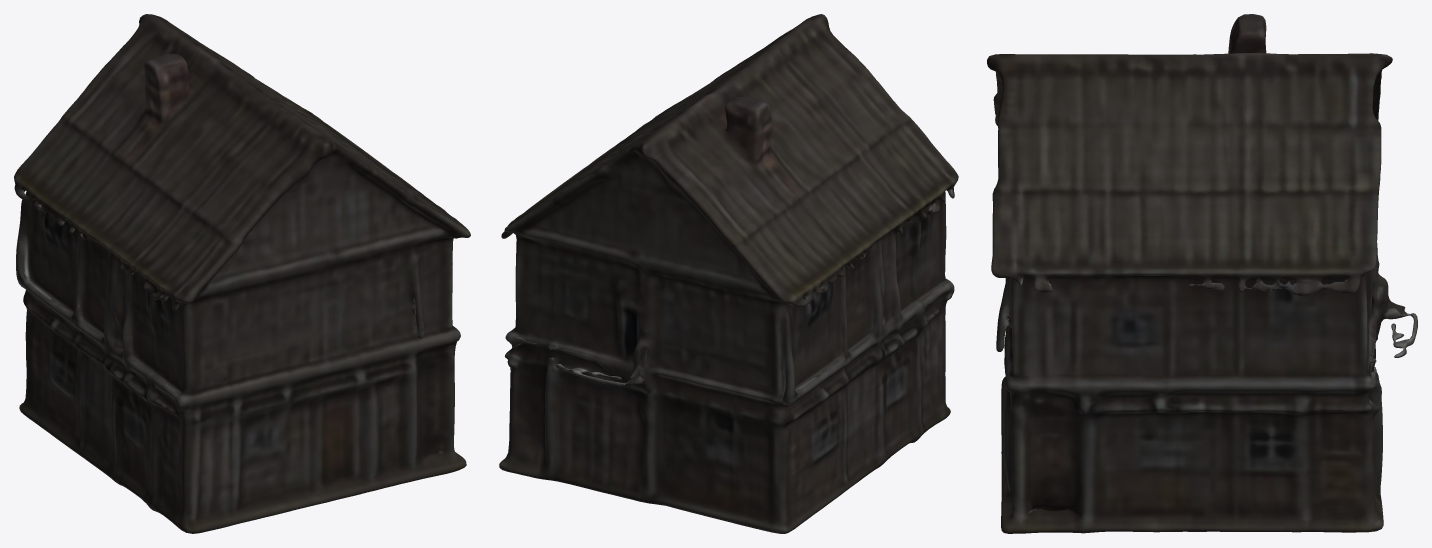
Rendered from house4.glb.
The picture shows the model from 3 angles, left to right: view 1: azimuth 30°, elevation 25°; view 2: azimuth 150°, elevation 25°; view 3: azimuth 270°, elevation 25°; orthographic projection. The views are drawn at different scales.
Visible parts, largest first — view 1: world; view 2: world; view 3: world.
Part boxes in pixels (box(x1,y1,x2,y2)): world: box(14, 14, 470, 533); world: box(499, 14, 958, 533); world: box(987, 14, 1417, 533).
Bounding box in the file's own units: 0.3323 × 0.3951 × 0.3702.
1 material, 1 textured.
